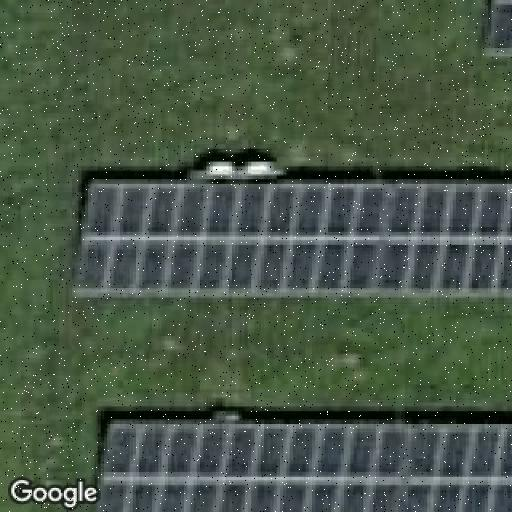solar-panel: (83, 182, 512, 292), (96, 421, 512, 512), (478, 0, 512, 59)
